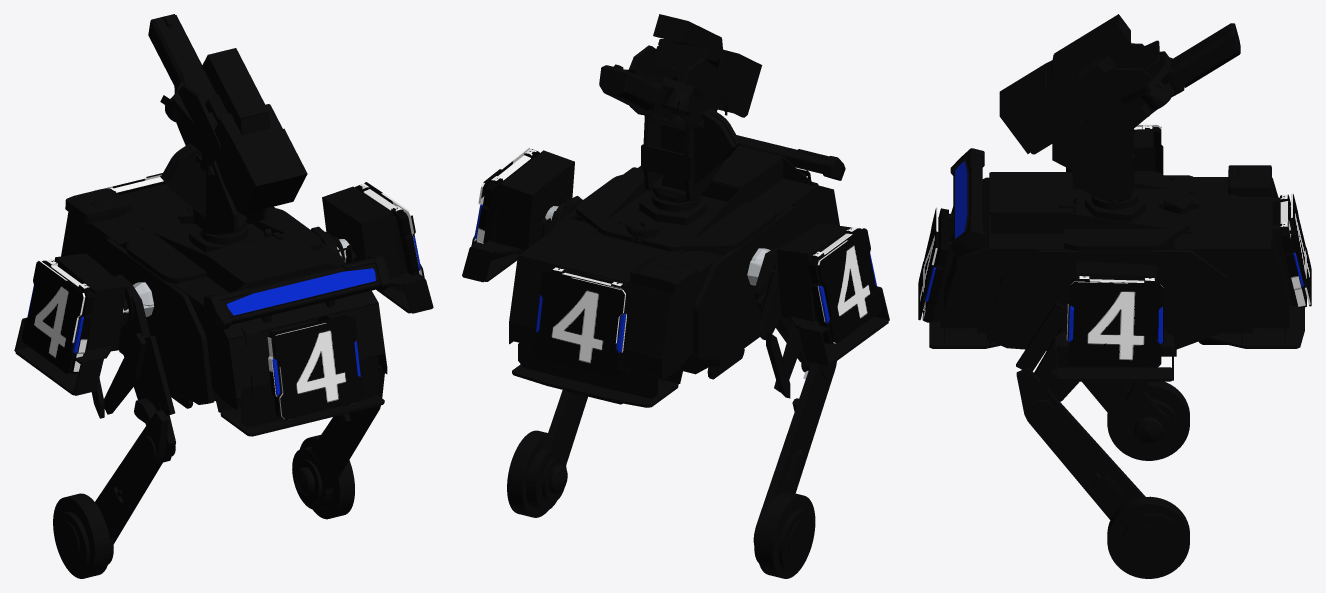
3 views of the same model, side by side, from view 1: azimuth 30°, elevation 25°; view 2: azimuth 150°, elevation 25°; view 3: azimuth 270°, elevation 25° (orthographic). The views are drawn at different scales.
Parts seen in each view (by area): view 1: 后保护3.25_069, 小装甲板_087, 大眼睛_216, 菜狗_077, 小头大保护_474, RM2019裁判系统灯条模块LI01_118, 小装甲板_371, 云台连接板_169, 左右装甲板保护_315, 前保护3.25_184, 小腿_304, 左右装甲板保护_399 (+23 smaller); view 2: 前保护3.25_184, 小装甲板_177, 大眼睛_216, 云台连接板_169, 小装甲板_371, 菜狗_077, 左右装甲板保护_315, 左右装甲板保护_399, 小腿_304, 上弹链_434, 120mm包胶轮-bowl_230, 小头侧主板2_464 (+29 smaller); view 3: Mirror大眼睛_293, 前保护3.25_184, 小装甲板_427, 菜狗_077, Mirror小腿_383, 后保护3.25_069, 小头大保护_474, 云台连接板_169, 小头侧主板2_464, 云台大侧板2_451, RM2019裁判系统灯条模块LI01_118, 120mm包胶轮-bowl_331 (+29 smaller).
Part boxes in pixels (x1,y1,x2,y2): 后保护3.25_069: [190, 290, 387, 410]; 小装甲板_087: [267, 315, 363, 419]; 大眼睛_216: [87, 239, 213, 404]; 菜狗_077: [138, 217, 361, 412]; 小头大保护_474: [214, 104, 307, 214]; RM2019裁判系统灯条模块LI01_118: [204, 254, 389, 331]; 小装甲板_371: [22, 259, 94, 373]; 云台连接板_169: [126, 208, 321, 283]; 左右装甲板保护_315: [322, 186, 400, 278]; 前保护3.25_184: [61, 183, 188, 256]; 小腿_304: [95, 410, 168, 543]; 左右装甲板保护_399: [54, 253, 125, 351]; 前保护3.25_184: [509, 218, 721, 383]; 小装甲板_177: [533, 267, 631, 376]; 大眼睛_216: [693, 206, 816, 359]; 云台连接板_169: [576, 173, 775, 251]; 小装甲板_371: [808, 227, 882, 343]; 菜狗_077: [589, 145, 816, 268]; 左右装甲板保护_315: [496, 150, 574, 254]; 左右装甲板保护_399: [777, 223, 850, 321]; 小腿_304: [756, 362, 834, 524]; 上弹链_434: [661, 108, 740, 190]; 120mm包胶轮-bowl_230: [757, 491, 815, 578]; 小头侧主板2_464: [629, 45, 727, 127]; Mirror大眼睛_293: [986, 249, 1228, 351]; 前保护3.25_184: [1173, 177, 1289, 345]; 小装甲板_427: [1066, 276, 1164, 367]; 菜狗_077: [989, 172, 1204, 346]; Mirror小腿_383: [1016, 367, 1145, 519]; 后保护3.25_069: [940, 177, 1033, 328]; 小头大保护_474: [999, 60, 1085, 154]; 云台连接板_169: [1064, 171, 1190, 251]; 小头侧主板2_464: [1069, 43, 1169, 139]; 云台大侧板2_451: [1072, 128, 1134, 199]; RM2019裁判系统灯条模块LI01_118: [950, 148, 984, 256]; 120mm包胶轮-bowl_331: [1107, 496, 1189, 578].
Size of the model in its own units: 0.5948 by 0.795 by 0.5704.
10 materials, 1 textured.
